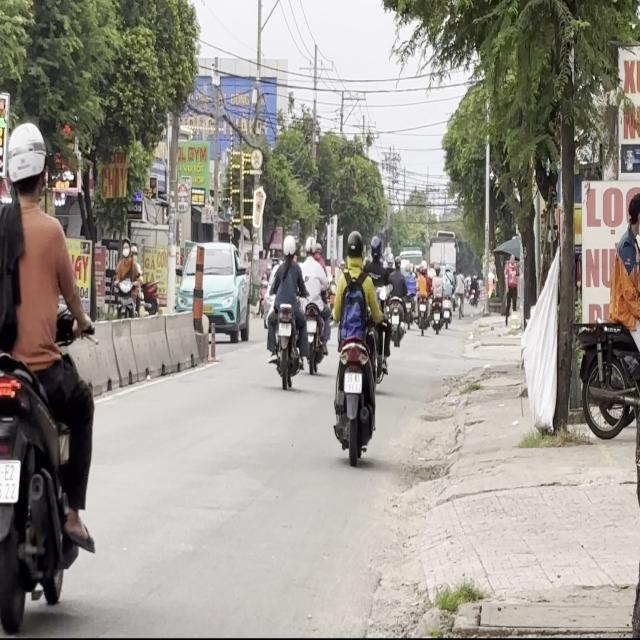helmet: (4, 120, 48, 204), (345, 228, 363, 262)
licenseplate: (0, 118, 100, 630), (329, 226, 382, 462)
nohelmet: (344, 372, 362, 392)
